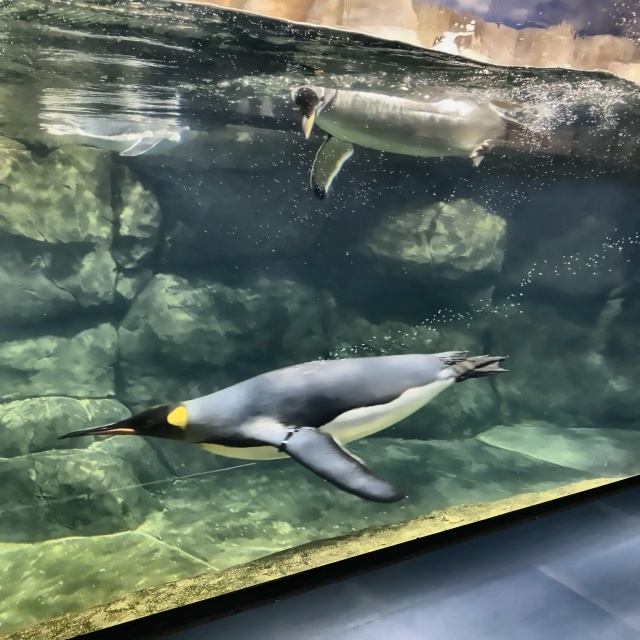penguin: (55, 349, 510, 503), (283, 84, 543, 198), (40, 114, 184, 156)
